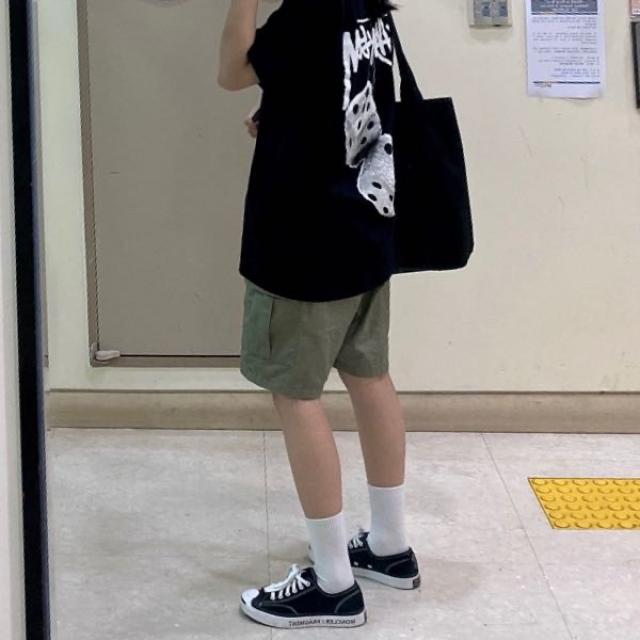shortpants: (240, 271, 391, 397)
shortsleeve: (237, 0, 397, 298)
